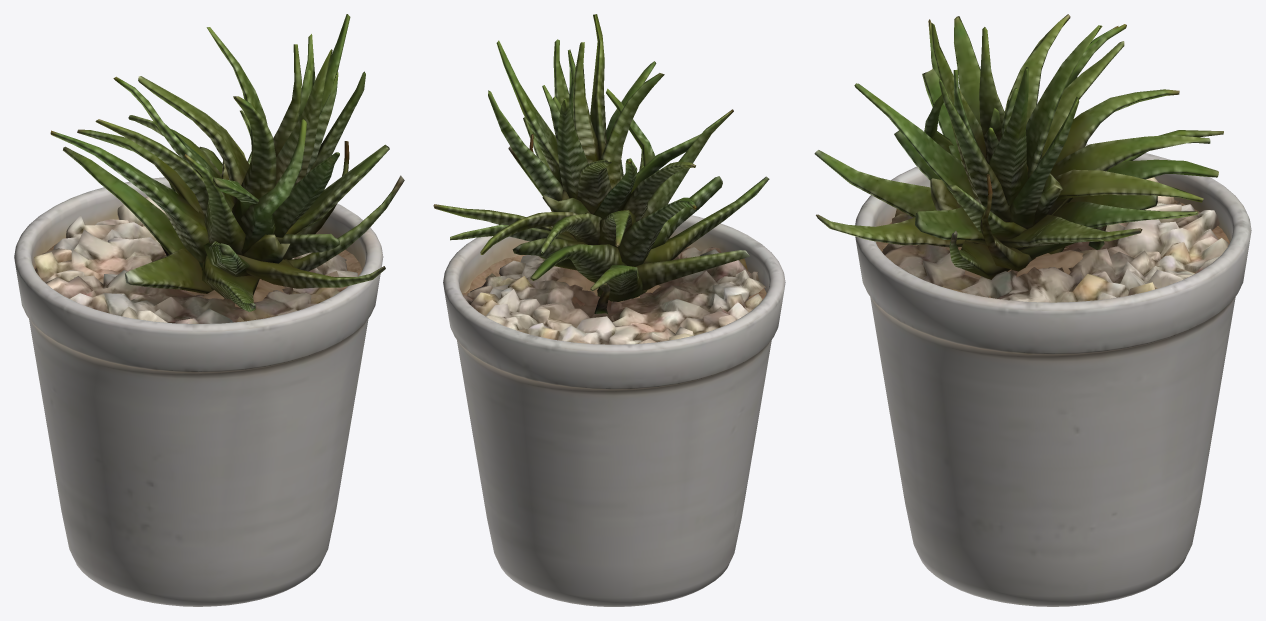
File: potted_plant_04.glb
3 views of the same model, side by side, from view 1: azimuth 30°, elevation 25°; view 2: azimuth 150°, elevation 25°; view 3: azimuth 270°, elevation 25° (orthographic). The views are drawn at different scales.
Visible parts, largest first — view 1: potted_plant_04_pot, potted_plant_04_plant, potted_plant_04_ground, potted_plant_04_dirt; view 2: potted_plant_04_pot, potted_plant_04_plant, potted_plant_04_ground, potted_plant_04_dirt; view 3: potted_plant_04_pot, potted_plant_04_plant, potted_plant_04_ground, potted_plant_04_dirt.
Boxes of the visible parts, x1,y1,x2,y2 form: potted_plant_04_pot: (14,177,383,606); potted_plant_04_plant: (50,14,404,311); potted_plant_04_ground: (34,196,357,323); potted_plant_04_dirt: (34,219,362,307); potted_plant_04_pot: (443,215,785,606); potted_plant_04_plant: (433,14,769,314); potted_plant_04_ground: (462,247,766,344); potted_plant_04_dirt: (462,247,766,306); potted_plant_04_pot: (855,144,1251,606); potted_plant_04_plant: (814,14,1223,279); potted_plant_04_ground: (882,177,1228,302); potted_plant_04_dirt: (876,200,1229,297).
Bounding box in the file's own units: 0.1679 × 0.2672 × 0.1848.
Materials: 1 (1 with a texture image).
